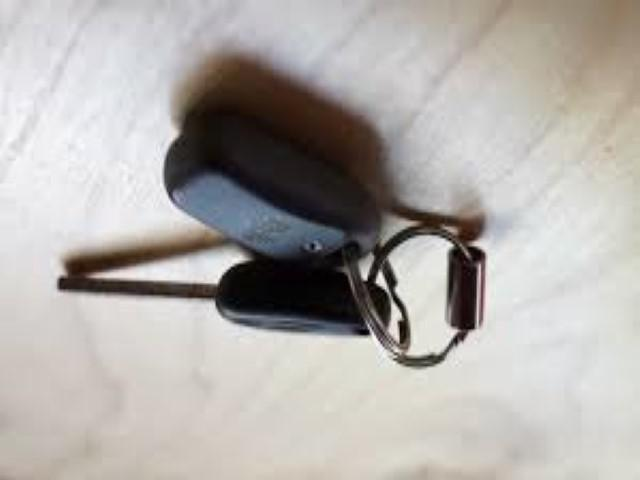key: (56, 266, 392, 392)
